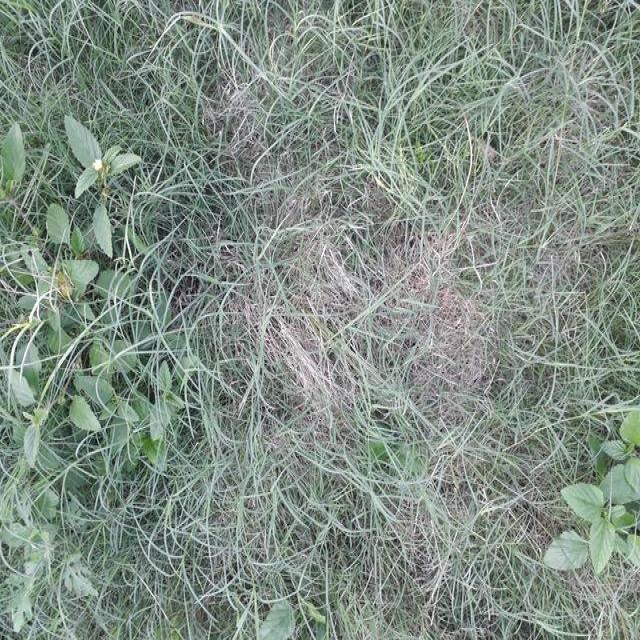weed: (0, 98, 170, 462), (559, 402, 640, 590), (0, 500, 106, 640), (230, 576, 322, 640)
